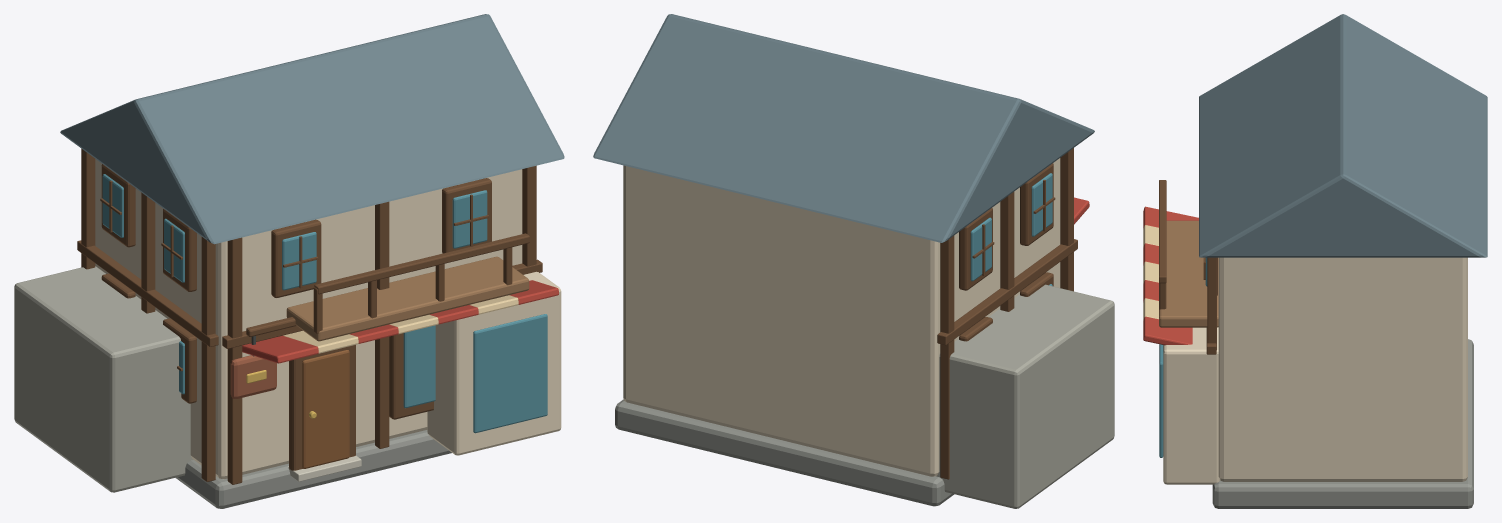
Rendered from temperate-merchant-2.glb.
The picture shows the model from 3 angles, left to right: view 1: azimuth 30°, elevation 25°; view 2: azimuth 150°, elevation 25°; view 3: azimuth 270°, elevation 25°; orthographic projection. The views are drawn at different scales.
Parts seen in each view (by area): view 1: Blue slate, Warm lime, Dark beams, Fieldstone, Blue glass, Aged oak, Foundation stone, Door oak, Market red cloth, Market cream cloth, Painted sign, Cut limestone; view 2: Warm lime, Blue slate, Fieldstone, Dark beams, Foundation stone, Blue glass; view 3: Warm lime, Blue slate, Foundation stone, Aged oak, Market red cloth, Dark beams, Market cream cloth, Blue glass.
Boxes of the visible parts, left/top/right/bottom form: Blue slate: left=60, top=14, right=564, bottom=244; Warm lime: left=95, top=159, right=561, bottom=479; Dark beams: left=77, top=148, right=542, bottom=484; Fieldstone: left=14, top=266, right=193, bottom=492; Blue glass: left=102, top=174, right=547, bottom=433; Aged oak: left=286, top=256, right=529, bottom=341; Foundation stone: left=175, top=430, right=451, bottom=508; Door oak: left=302, top=350, right=349, bottom=468; Market red cloth: left=242, top=280, right=558, bottom=363; Market cream cloth: left=283, top=295, right=518, bottom=353; Painted sign: left=230, top=355, right=276, bottom=398; Cut limestone: left=288, top=455, right=361, bottom=481; Warm lime: left=623, top=158, right=1060, bottom=476; Blue slate: left=593, top=14, right=1094, bottom=242; Fieldstone: left=936, top=284, right=1114, bottom=508; Dark beams: left=937, top=148, right=1077, bottom=479; Foundation stone: left=615, top=399, right=953, bottom=506; Blue glass: left=970, top=173, right=1052, bottom=285; Warm lime: left=1163, top=257, right=1467, bottom=484; Blue slate: left=1199, top=14, right=1487, bottom=257; Foundation stone: left=1212, top=339, right=1473, bottom=508; Aged oak: left=1159, top=220, right=1218, bottom=327; Market red cloth: left=1143, top=206, right=1198, bottom=345; Dark beams: left=1159, top=180, right=1217, bottom=354; Market cream cloth: left=1143, top=225, right=1158, bottom=320; Blue glass: left=1159, top=257, right=1207, bottom=457.
Size of the model in its own units: 4.6 by 3.86 by 3.52.
